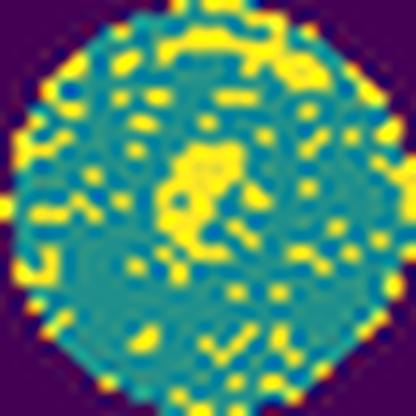Center: (148, 142, 254, 266)
